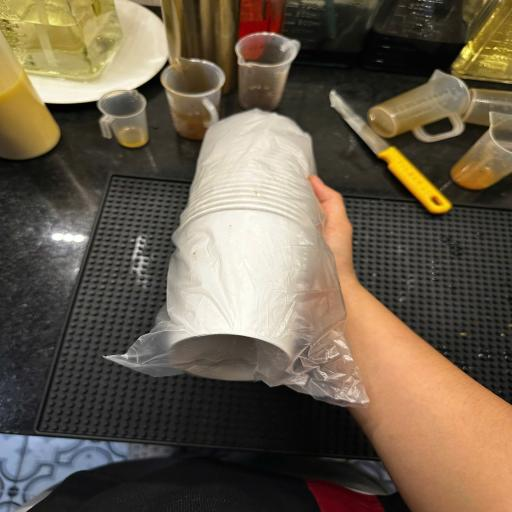ly_giay: (174, 95, 358, 404)
